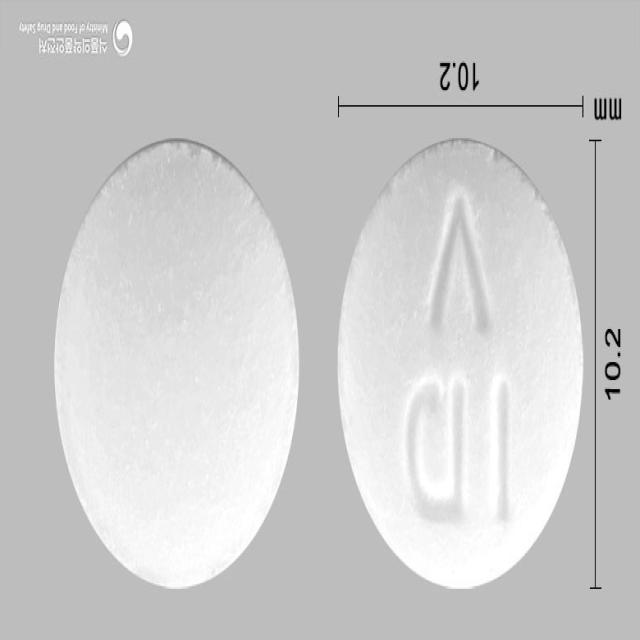Amocla Duo500mg: (336, 139, 584, 592), (53, 140, 300, 592)
